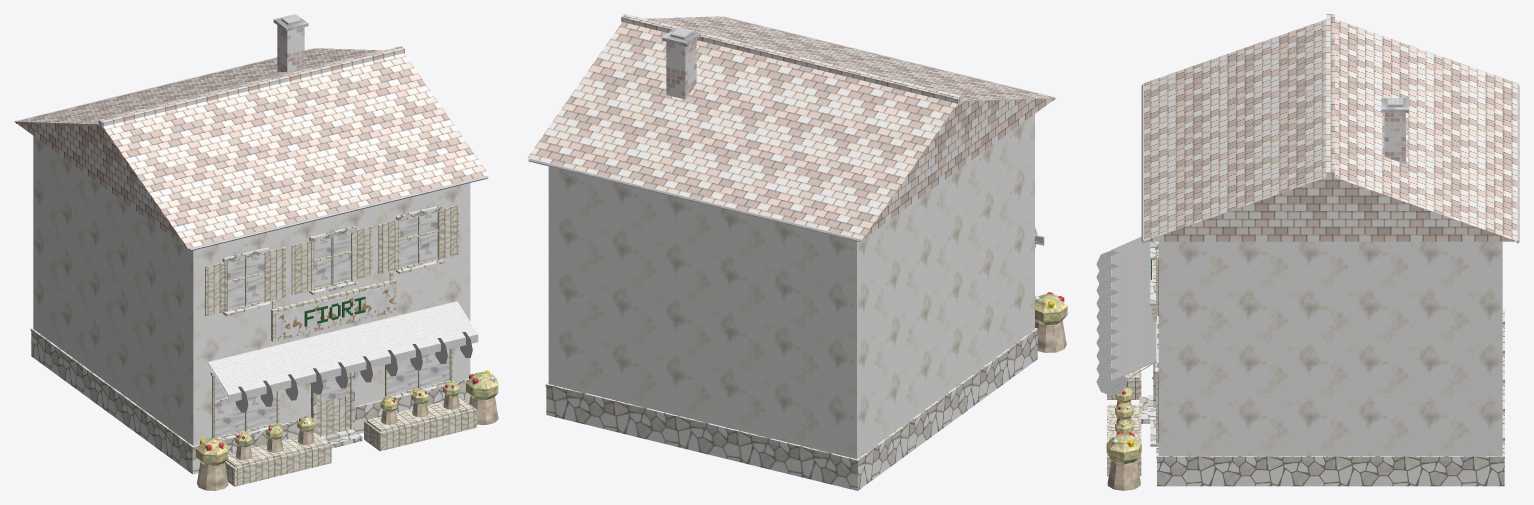
The model's file is fioraio.obj.
The picture shows the model from 3 angles, left to right: view 1: azimuth 30°, elevation 25°; view 2: azimuth 150°, elevation 25°; view 3: azimuth 270°, elevation 25°; orthographic projection. The views are drawn at different scales.
Parts seen in each view (by area): view 1: tegole_002, intonaco_000, pietra_001, tessuto_010, tessuto_011, legno_012, insegna_008, erba_015, terra_014, legno_013, legno_038, legno_042 (+15 smaller); view 2: intonaco_000, tegole_002, pietra_001, metallo_003, mattone_004, terra_014, erba_015; view 3: intonaco_000, tegole_002, pietra_001, tessuto_011, tessuto_010, erba_015, mattone_004, metallo_003, terra_014, legno_012, legno_013.
Boxes of the visible parts, box(x1,y1,x2,y2) form: tegole_002: box(14, 46, 488, 248); intonaco_000: box(33, 136, 470, 445); pietra_001: box(30, 328, 470, 474); tessuto_010: box(208, 307, 453, 412); tessuto_011: box(233, 301, 478, 406); legno_012: box(225, 408, 476, 486); insegna_008: box(275, 284, 393, 338); erba_015: box(196, 372, 498, 465); terra_014: box(197, 394, 498, 490); legno_013: box(226, 397, 474, 467); legno_038: box(291, 226, 372, 295); legno_042: box(378, 205, 459, 273); intonaco_000: box(548, 114, 1034, 459); tegole_002: box(527, 14, 1055, 239); pietra_001: box(545, 328, 1037, 490); metallo_003: box(528, 16, 1054, 242); mattone_004: box(666, 39, 696, 99); terra_014: box(1035, 320, 1066, 352); erba_015: box(1035, 293, 1067, 325); intonaco_000: box(1158, 241, 1502, 455); tegole_002: box(1143, 14, 1517, 241); pietra_001: box(1156, 309, 1504, 486); tessuto_011: box(1096, 246, 1157, 395); tessuto_010: box(1096, 237, 1157, 374); erba_015: box(1106, 387, 1141, 464); mattone_004: box(1384, 112, 1405, 163); metallo_003: box(1141, 84, 1519, 243); terra_014: box(1107, 401, 1140, 490); legno_012: box(1107, 368, 1141, 476); legno_013: box(1109, 369, 1139, 440).
Bounding box in the file's own units: 8.74 × 8.92 × 9.84.
30 materials, 26 textured.
